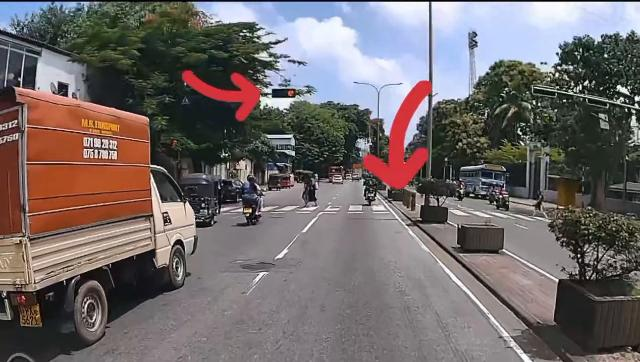red light violation: (352, 172, 381, 209)
traffic light red: (270, 85, 300, 99)
